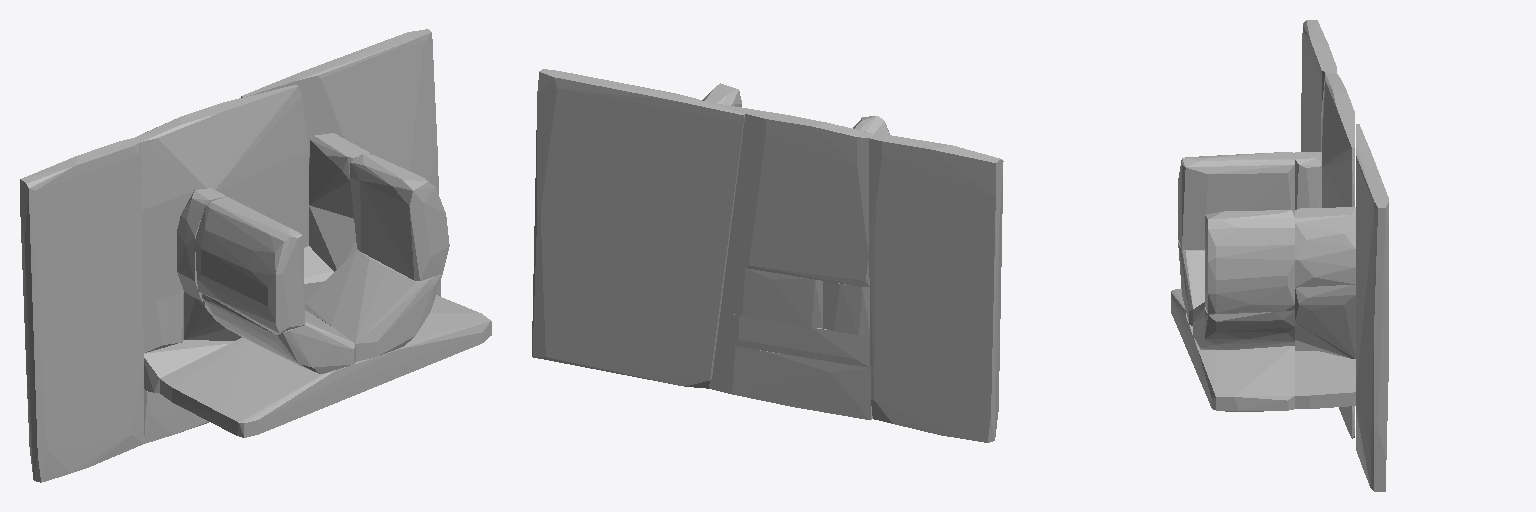
robot.urdf — root:
<robot name="root">
  <link name="link_thingiverse_packaged~part_4184550_packaged_convex_piece_0">
    <inertial>
      <origin rpy="0 0 0" xyz="0 0 0"/>
      <mass value="1.65E-02"/>
      <inertia ixx="5.85E-06" ixy="-2.15E-07" ixz="-2.79E-07" iyy="7.56E-06" iyz="2.52E-06" izz="7.59E-06"/>
    </inertial>
    <visual>
      <origin rpy="0 0 0" xyz="0 0 0"/>
      <geometry>
        <mesh filename="thingiverse_packaged~part_4184550_packaged_convex_piece_0.obj" scale="1.0000E+00 1.0000E+00 1.0000E+00"/>
      </geometry>
      <material name="">
        <color rgba="7.50E-01 7.50E-01 7.50E-01 1"/>
      </material>
    </visual>
    <collision>
      <origin rpy="0 0 0" xyz="0 0 0"/>
      <geometry>
        <mesh filename="thingiverse_packaged~part_4184550_packaged_convex_piece_0.obj" scale="1.0000E+00 1.0000E+00 1.0000E+00"/>
      </geometry>
    </collision>
  </link>
  <link name="link_thingiverse_packaged~part_4184550_packaged_convex_piece_1">
    <inertial>
      <origin rpy="0 0 0" xyz="0 0 0"/>
      <mass value="1.88E-02"/>
      <inertia ixx="1.13E-05" ixy="7.99E-06" ixz="1.82E-06" iyy="2.28E-05" iyz="1.37E-06" izz="2.03E-05"/>
    </inertial>
    <visual>
      <origin rpy="0 0 0" xyz="0 0 0"/>
      <geometry>
        <mesh filename="thingiverse_packaged~part_4184550_packaged_convex_piece_1.obj" scale="1.0000E+00 1.0000E+00 1.0000E+00"/>
      </geometry>
      <material name="">
        <color rgba="7.50E-01 7.50E-01 7.50E-01 1"/>
      </material>
    </visual>
    <collision>
      <origin rpy="0 0 0" xyz="0 0 0"/>
      <geometry>
        <mesh filename="thingiverse_packaged~part_4184550_packaged_convex_piece_1.obj" scale="1.0000E+00 1.0000E+00 1.0000E+00"/>
      </geometry>
    </collision>
  </link>
  <joint name="link_thingiverse_packaged~part_4184550_packaged_convex_piece_1_joint" type="fixed">
    <origin rpy="0 0 0" xyz="0 0 0"/>
    <parent link="link_thingiverse_packaged~part_4184550_packaged_convex_piece_0"/>
    <child link="link_thingiverse_packaged~part_4184550_packaged_convex_piece_1"/>
  </joint>
  <link name="link_thingiverse_packaged~part_4184550_packaged_convex_piece_2">
    <inertial>
      <origin rpy="0 0 0" xyz="0 0 0"/>
      <mass value="1.29E-02"/>
      <inertia ixx="4.92E-06" ixy="-2.29E-06" ixz="-1.36E-06" iyy="2.91E-05" iyz="2.20E-07" izz="2.47E-05"/>
    </inertial>
    <visual>
      <origin rpy="0 0 0" xyz="0 0 0"/>
      <geometry>
        <mesh filename="thingiverse_packaged~part_4184550_packaged_convex_piece_2.obj" scale="1.0000E+00 1.0000E+00 1.0000E+00"/>
      </geometry>
      <material name="">
        <color rgba="7.50E-01 7.50E-01 7.50E-01 1"/>
      </material>
    </visual>
    <collision>
      <origin rpy="0 0 0" xyz="0 0 0"/>
      <geometry>
        <mesh filename="thingiverse_packaged~part_4184550_packaged_convex_piece_2.obj" scale="1.0000E+00 1.0000E+00 1.0000E+00"/>
      </geometry>
    </collision>
  </link>
  <joint name="link_thingiverse_packaged~part_4184550_packaged_convex_piece_2_joint" type="fixed">
    <origin rpy="0 0 0" xyz="0 0 0"/>
    <parent link="link_thingiverse_packaged~part_4184550_packaged_convex_piece_1"/>
    <child link="link_thingiverse_packaged~part_4184550_packaged_convex_piece_2"/>
  </joint>
  <link name="link_thingiverse_packaged~part_4184550_packaged_convex_piece_3">
    <inertial>
      <origin rpy="0 0 0" xyz="0 0 0"/>
      <mass value="7.48E-03"/>
      <inertia ixx="1.59E-06" ixy="5.96E-07" ixz="1.08E-07" iyy="7.42E-07" iyz="3.14E-07" izz="1.98E-06"/>
    </inertial>
    <visual>
      <origin rpy="0 0 0" xyz="0 0 0"/>
      <geometry>
        <mesh filename="thingiverse_packaged~part_4184550_packaged_convex_piece_3.obj" scale="1.0000E+00 1.0000E+00 1.0000E+00"/>
      </geometry>
      <material name="">
        <color rgba="7.50E-01 7.50E-01 7.50E-01 1"/>
      </material>
    </visual>
    <collision>
      <origin rpy="0 0 0" xyz="0 0 0"/>
      <geometry>
        <mesh filename="thingiverse_packaged~part_4184550_packaged_convex_piece_3.obj" scale="1.0000E+00 1.0000E+00 1.0000E+00"/>
      </geometry>
    </collision>
  </link>
  <joint name="link_thingiverse_packaged~part_4184550_packaged_convex_piece_3_joint" type="fixed">
    <origin rpy="0 0 0" xyz="0 0 0"/>
    <parent link="link_thingiverse_packaged~part_4184550_packaged_convex_piece_2"/>
    <child link="link_thingiverse_packaged~part_4184550_packaged_convex_piece_3"/>
  </joint>
  <link name="link_thingiverse_packaged~part_4184550_packaged_convex_piece_4">
    <inertial>
      <origin rpy="0 0 0" xyz="0 0 0"/>
      <mass value="7.61E-03"/>
      <inertia ixx="2.93E-06" ixy="1.31E-06" ixz="-1.30E-06" iyy="2.93E-06" iyz="-1.17E-06" izz="3.16E-06"/>
    </inertial>
    <visual>
      <origin rpy="0 0 0" xyz="0 0 0"/>
      <geometry>
        <mesh filename="thingiverse_packaged~part_4184550_packaged_convex_piece_4.obj" scale="1.0000E+00 1.0000E+00 1.0000E+00"/>
      </geometry>
      <material name="">
        <color rgba="7.50E-01 7.50E-01 7.50E-01 1"/>
      </material>
    </visual>
    <collision>
      <origin rpy="0 0 0" xyz="0 0 0"/>
      <geometry>
        <mesh filename="thingiverse_packaged~part_4184550_packaged_convex_piece_4.obj" scale="1.0000E+00 1.0000E+00 1.0000E+00"/>
      </geometry>
    </collision>
  </link>
  <joint name="link_thingiverse_packaged~part_4184550_packaged_convex_piece_4_joint" type="fixed">
    <origin rpy="0 0 0" xyz="0 0 0"/>
    <parent link="link_thingiverse_packaged~part_4184550_packaged_convex_piece_3"/>
    <child link="link_thingiverse_packaged~part_4184550_packaged_convex_piece_4"/>
  </joint>
  <link name="link_thingiverse_packaged~part_4184550_packaged_convex_piece_5">
    <inertial>
      <origin rpy="0 0 0" xyz="0 0 0"/>
      <mass value="6.70E-03"/>
      <inertia ixx="1.20E-06" ixy="-1.04E-06" ixz="-2.50E-07" iyy="1.68E-06" iyz="2.62E-07" izz="2.56E-06"/>
    </inertial>
    <visual>
      <origin rpy="0 0 0" xyz="0 0 0"/>
      <geometry>
        <mesh filename="thingiverse_packaged~part_4184550_packaged_convex_piece_5.obj" scale="1.0000E+00 1.0000E+00 1.0000E+00"/>
      </geometry>
      <material name="">
        <color rgba="7.50E-01 7.50E-01 7.50E-01 1"/>
      </material>
    </visual>
    <collision>
      <origin rpy="0 0 0" xyz="0 0 0"/>
      <geometry>
        <mesh filename="thingiverse_packaged~part_4184550_packaged_convex_piece_5.obj" scale="1.0000E+00 1.0000E+00 1.0000E+00"/>
      </geometry>
    </collision>
  </link>
  <joint name="link_thingiverse_packaged~part_4184550_packaged_convex_piece_5_joint" type="fixed">
    <origin rpy="0 0 0" xyz="0 0 0"/>
    <parent link="link_thingiverse_packaged~part_4184550_packaged_convex_piece_4"/>
    <child link="link_thingiverse_packaged~part_4184550_packaged_convex_piece_5"/>
  </joint>
  <link name="link_thingiverse_packaged~part_4184550_packaged_convex_piece_6">
    <inertial>
      <origin rpy="0 0 0" xyz="0 0 0"/>
      <mass value="6.43E-03"/>
      <inertia ixx="2.23E-06" ixy="-1.37E-06" ixz="1.81E-06" iyy="4.26E-06" iyz="-8.78E-07" izz="3.69E-06"/>
    </inertial>
    <visual>
      <origin rpy="0 0 0" xyz="0 0 0"/>
      <geometry>
        <mesh filename="thingiverse_packaged~part_4184550_packaged_convex_piece_6.obj" scale="1.0000E+00 1.0000E+00 1.0000E+00"/>
      </geometry>
      <material name="">
        <color rgba="7.50E-01 7.50E-01 7.50E-01 1"/>
      </material>
    </visual>
    <collision>
      <origin rpy="0 0 0" xyz="0 0 0"/>
      <geometry>
        <mesh filename="thingiverse_packaged~part_4184550_packaged_convex_piece_6.obj" scale="1.0000E+00 1.0000E+00 1.0000E+00"/>
      </geometry>
    </collision>
  </link>
  <joint name="link_thingiverse_packaged~part_4184550_packaged_convex_piece_6_joint" type="fixed">
    <origin rpy="0 0 0" xyz="0 0 0"/>
    <parent link="link_thingiverse_packaged~part_4184550_packaged_convex_piece_5"/>
    <child link="link_thingiverse_packaged~part_4184550_packaged_convex_piece_6"/>
  </joint>
  <link name="link_thingiverse_packaged~part_4184550_packaged_convex_piece_7">
    <inertial>
      <origin rpy="0 0 0" xyz="0 0 0"/>
      <mass value="3.44E-03"/>
      <inertia ixx="2.33E-06" ixy="-1.91E-07" ixz="7.04E-07" iyy="2.80E-06" iyz="-7.49E-07" izz="1.06E-06"/>
    </inertial>
    <visual>
      <origin rpy="0 0 0" xyz="0 0 0"/>
      <geometry>
        <mesh filename="thingiverse_packaged~part_4184550_packaged_convex_piece_7.obj" scale="1.0000E+00 1.0000E+00 1.0000E+00"/>
      </geometry>
      <material name="">
        <color rgba="7.50E-01 7.50E-01 7.50E-01 1"/>
      </material>
    </visual>
    <collision>
      <origin rpy="0 0 0" xyz="0 0 0"/>
      <geometry>
        <mesh filename="thingiverse_packaged~part_4184550_packaged_convex_piece_7.obj" scale="1.0000E+00 1.0000E+00 1.0000E+00"/>
      </geometry>
    </collision>
  </link>
  <joint name="link_thingiverse_packaged~part_4184550_packaged_convex_piece_7_joint" type="fixed">
    <origin rpy="0 0 0" xyz="0 0 0"/>
    <parent link="link_thingiverse_packaged~part_4184550_packaged_convex_piece_6"/>
    <child link="link_thingiverse_packaged~part_4184550_packaged_convex_piece_7"/>
  </joint>
  <link name="link_thingiverse_packaged~part_4184550_packaged_convex_piece_8">
    <inertial>
      <origin rpy="0 0 0" xyz="0 0 0"/>
      <mass value="9.16E-03"/>
      <inertia ixx="2.28E-06" ixy="2.20E-07" ixz="-2.61E-07" iyy="4.56E-06" iyz="-7.59E-07" izz="3.12E-06"/>
    </inertial>
    <visual>
      <origin rpy="0 0 0" xyz="0 0 0"/>
      <geometry>
        <mesh filename="thingiverse_packaged~part_4184550_packaged_convex_piece_8.obj" scale="1.0000E+00 1.0000E+00 1.0000E+00"/>
      </geometry>
      <material name="">
        <color rgba="7.50E-01 7.50E-01 7.50E-01 1"/>
      </material>
    </visual>
    <collision>
      <origin rpy="0 0 0" xyz="0 0 0"/>
      <geometry>
        <mesh filename="thingiverse_packaged~part_4184550_packaged_convex_piece_8.obj" scale="1.0000E+00 1.0000E+00 1.0000E+00"/>
      </geometry>
    </collision>
  </link>
  <joint name="link_thingiverse_packaged~part_4184550_packaged_convex_piece_8_joint" type="fixed">
    <origin rpy="0 0 0" xyz="0 0 0"/>
    <parent link="link_thingiverse_packaged~part_4184550_packaged_convex_piece_7"/>
    <child link="link_thingiverse_packaged~part_4184550_packaged_convex_piece_8"/>
  </joint>
  <link name="link_thingiverse_packaged~part_4184550_packaged_convex_piece_9">
    <inertial>
      <origin rpy="0 0 0" xyz="0 0 0"/>
      <mass value="3.76E-03"/>
      <inertia ixx="2.96E-07" ixy="3.95E-07" ixz="6.97E-08" iyy="1.25E-06" iyz="1.49E-08" izz="1.34E-06"/>
    </inertial>
    <visual>
      <origin rpy="0 0 0" xyz="0 0 0"/>
      <geometry>
        <mesh filename="thingiverse_packaged~part_4184550_packaged_convex_piece_9.obj" scale="1.0000E+00 1.0000E+00 1.0000E+00"/>
      </geometry>
      <material name="">
        <color rgba="7.50E-01 7.50E-01 7.50E-01 1"/>
      </material>
    </visual>
    <collision>
      <origin rpy="0 0 0" xyz="0 0 0"/>
      <geometry>
        <mesh filename="thingiverse_packaged~part_4184550_packaged_convex_piece_9.obj" scale="1.0000E+00 1.0000E+00 1.0000E+00"/>
      </geometry>
    </collision>
  </link>
  <joint name="link_thingiverse_packaged~part_4184550_packaged_convex_piece_9_joint" type="fixed">
    <origin rpy="0 0 0" xyz="0 0 0"/>
    <parent link="link_thingiverse_packaged~part_4184550_packaged_convex_piece_8"/>
    <child link="link_thingiverse_packaged~part_4184550_packaged_convex_piece_9"/>
  </joint>
  <link name="link_thingiverse_packaged~part_4184550_packaged_convex_piece_10">
    <inertial>
      <origin rpy="0 0 0" xyz="0 0 0"/>
      <mass value="3.02E-03"/>
      <inertia ixx="9.78E-07" ixy="3.33E-07" ixz="8.74E-07" iyy="1.85E-06" iyz="2.97E-07" izz="1.18E-06"/>
    </inertial>
    <visual>
      <origin rpy="0 0 0" xyz="0 0 0"/>
      <geometry>
        <mesh filename="thingiverse_packaged~part_4184550_packaged_convex_piece_10.obj" scale="1.0000E+00 1.0000E+00 1.0000E+00"/>
      </geometry>
      <material name="">
        <color rgba="7.50E-01 7.50E-01 7.50E-01 1"/>
      </material>
    </visual>
    <collision>
      <origin rpy="0 0 0" xyz="0 0 0"/>
      <geometry>
        <mesh filename="thingiverse_packaged~part_4184550_packaged_convex_piece_10.obj" scale="1.0000E+00 1.0000E+00 1.0000E+00"/>
      </geometry>
    </collision>
  </link>
  <joint name="link_thingiverse_packaged~part_4184550_packaged_convex_piece_10_joint" type="fixed">
    <origin rpy="0 0 0" xyz="0 0 0"/>
    <parent link="link_thingiverse_packaged~part_4184550_packaged_convex_piece_9"/>
    <child link="link_thingiverse_packaged~part_4184550_packaged_convex_piece_10"/>
  </joint>
  <link name="link_thingiverse_packaged~part_4184550_packaged_convex_piece_11">
    <inertial>
      <origin rpy="0 0 0" xyz="0 0 0"/>
      <mass value="7.64E-04"/>
      <inertia ixx="6.97E-08" ixy="-1.30E-07" ixz="9.62E-08" iyy="4.70E-07" iyz="-2.89E-08" izz="4.81E-07"/>
    </inertial>
    <visual>
      <origin rpy="0 0 0" xyz="0 0 0"/>
      <geometry>
        <mesh filename="thingiverse_packaged~part_4184550_packaged_convex_piece_11.obj" scale="1.0000E+00 1.0000E+00 1.0000E+00"/>
      </geometry>
      <material name="">
        <color rgba="7.50E-01 7.50E-01 7.50E-01 1"/>
      </material>
    </visual>
    <collision>
      <origin rpy="0 0 0" xyz="0 0 0"/>
      <geometry>
        <mesh filename="thingiverse_packaged~part_4184550_packaged_convex_piece_11.obj" scale="1.0000E+00 1.0000E+00 1.0000E+00"/>
      </geometry>
    </collision>
  </link>
  <joint name="link_thingiverse_packaged~part_4184550_packaged_convex_piece_11_joint" type="fixed">
    <origin rpy="0 0 0" xyz="0 0 0"/>
    <parent link="link_thingiverse_packaged~part_4184550_packaged_convex_piece_10"/>
    <child link="link_thingiverse_packaged~part_4184550_packaged_convex_piece_11"/>
  </joint>
  <link name="link_thingiverse_packaged~part_4184550_packaged_convex_piece_12">
    <inertial>
      <origin rpy="0 0 0" xyz="0 0 0"/>
      <mass value="8.13E-03"/>
      <inertia ixx="6.91E-07" ixy="-8.21E-08" ixz="7.27E-08" iyy="9.57E-07" iyz="-2.53E-07" izz="1.03E-06"/>
    </inertial>
    <visual>
      <origin rpy="0 0 0" xyz="0 0 0"/>
      <geometry>
        <mesh filename="thingiverse_packaged~part_4184550_packaged_convex_piece_12.obj" scale="1.0000E+00 1.0000E+00 1.0000E+00"/>
      </geometry>
      <material name="">
        <color rgba="7.50E-01 7.50E-01 7.50E-01 1"/>
      </material>
    </visual>
    <collision>
      <origin rpy="0 0 0" xyz="0 0 0"/>
      <geometry>
        <mesh filename="thingiverse_packaged~part_4184550_packaged_convex_piece_12.obj" scale="1.0000E+00 1.0000E+00 1.0000E+00"/>
      </geometry>
    </collision>
  </link>
  <joint name="link_thingiverse_packaged~part_4184550_packaged_convex_piece_12_joint" type="fixed">
    <origin rpy="0 0 0" xyz="0 0 0"/>
    <parent link="link_thingiverse_packaged~part_4184550_packaged_convex_piece_11"/>
    <child link="link_thingiverse_packaged~part_4184550_packaged_convex_piece_12"/>
  </joint>
  <link name="link_thingiverse_packaged~part_4184550_packaged_convex_piece_13">
    <inertial>
      <origin rpy="0 0 0" xyz="0 0 0"/>
      <mass value="1.98E-03"/>
      <inertia ixx="3.12E-07" ixy="-7.71E-08" ixz="-3.41E-07" iyy="8.22E-07" iyz="5.04E-08" izz="5.44E-07"/>
    </inertial>
    <visual>
      <origin rpy="0 0 0" xyz="0 0 0"/>
      <geometry>
        <mesh filename="thingiverse_packaged~part_4184550_packaged_convex_piece_13.obj" scale="1.0000E+00 1.0000E+00 1.0000E+00"/>
      </geometry>
      <material name="">
        <color rgba="7.50E-01 7.50E-01 7.50E-01 1"/>
      </material>
    </visual>
    <collision>
      <origin rpy="0 0 0" xyz="0 0 0"/>
      <geometry>
        <mesh filename="thingiverse_packaged~part_4184550_packaged_convex_piece_13.obj" scale="1.0000E+00 1.0000E+00 1.0000E+00"/>
      </geometry>
    </collision>
  </link>
  <joint name="link_thingiverse_packaged~part_4184550_packaged_convex_piece_13_joint" type="fixed">
    <origin rpy="0 0 0" xyz="0 0 0"/>
    <parent link="link_thingiverse_packaged~part_4184550_packaged_convex_piece_12"/>
    <child link="link_thingiverse_packaged~part_4184550_packaged_convex_piece_13"/>
  </joint>
  <link name="link_thingiverse_packaged~part_4184550_packaged_convex_piece_14">
    <inertial>
      <origin rpy="0 0 0" xyz="0 0 0"/>
      <mass value="1.15E-02"/>
      <inertia ixx="5.54E-06" ixy="-9.42E-07" ixz="-2.14E-06" iyy="7.07E-06" iyz="1.82E-06" izz="3.48E-06"/>
    </inertial>
    <visual>
      <origin rpy="0 0 0" xyz="0 0 0"/>
      <geometry>
        <mesh filename="thingiverse_packaged~part_4184550_packaged_convex_piece_14.obj" scale="1.0000E+00 1.0000E+00 1.0000E+00"/>
      </geometry>
      <material name="">
        <color rgba="7.50E-01 7.50E-01 7.50E-01 1"/>
      </material>
    </visual>
    <collision>
      <origin rpy="0 0 0" xyz="0 0 0"/>
      <geometry>
        <mesh filename="thingiverse_packaged~part_4184550_packaged_convex_piece_14.obj" scale="1.0000E+00 1.0000E+00 1.0000E+00"/>
      </geometry>
    </collision>
  </link>
  <joint name="link_thingiverse_packaged~part_4184550_packaged_convex_piece_14_joint" type="fixed">
    <origin rpy="0 0 0" xyz="0 0 0"/>
    <parent link="link_thingiverse_packaged~part_4184550_packaged_convex_piece_13"/>
    <child link="link_thingiverse_packaged~part_4184550_packaged_convex_piece_14"/>
  </joint>
</robot>

--- Render facts (derived) ---
Views: 3 orthographic renders of the robot side by side, from view 1: azimuth 30°, elevation 25°; view 2: azimuth 150°, elevation 25°; view 3: azimuth 270°, elevation 25°.
Robot: root — 15 links, 14 joints (14 fixed); root link link_thingiverse_packaged~part_4184550_packaged_convex_piece_0; default pose: all joints at 0.
Visible links, largest first — view 1: link_thingiverse_packaged~part_4184550_packaged_convex_piece_2, link_thingiverse_packaged~part_4184550_packaged_convex_piece_14, link_thingiverse_packaged~part_4184550_packaged_convex_piece_0, link_thingiverse_packaged~part_4184550_packaged_convex_piece_1, link_thingiverse_packaged~part_4184550_packaged_convex_piece_4, link_thingiverse_packaged~part_4184550_packaged_convex_piece_6, link_thingiverse_packaged~part_4184550_packaged_convex_piece_5, link_thingiverse_packaged~part_4184550_packaged_convex_piece_3, link_thingiverse_packaged~part_4184550_packaged_convex_piece_10, link_thingiverse_packaged~part_4184550_packaged_convex_piece_12, link_thingiverse_packaged~part_4184550_packaged_convex_piece_9, link_thingiverse_packaged~part_4184550_packaged_convex_piece_13 (+3 smaller); view 2: link_thingiverse_packaged~part_4184550_packaged_convex_piece_1, link_thingiverse_packaged~part_4184550_packaged_convex_piece_2, link_thingiverse_packaged~part_4184550_packaged_convex_piece_14, link_thingiverse_packaged~part_4184550_packaged_convex_piece_7, link_thingiverse_packaged~part_4184550_packaged_convex_piece_12, link_thingiverse_packaged~part_4184550_packaged_convex_piece_8, link_thingiverse_packaged~part_4184550_packaged_convex_piece_11, link_thingiverse_packaged~part_4184550_packaged_convex_piece_6; view 3: link_thingiverse_packaged~part_4184550_packaged_convex_piece_1, link_thingiverse_packaged~part_4184550_packaged_convex_piece_6, link_thingiverse_packaged~part_4184550_packaged_convex_piece_4, link_thingiverse_packaged~part_4184550_packaged_convex_piece_0, link_thingiverse_packaged~part_4184550_packaged_convex_piece_10, link_thingiverse_packaged~part_4184550_packaged_convex_piece_9, link_thingiverse_packaged~part_4184550_packaged_convex_piece_14, link_thingiverse_packaged~part_4184550_packaged_convex_piece_5, link_thingiverse_packaged~part_4184550_packaged_convex_piece_8, link_thingiverse_packaged~part_4184550_packaged_convex_piece_2, link_thingiverse_packaged~part_4184550_packaged_convex_piece_13, link_thingiverse_packaged~part_4184550_packaged_convex_piece_3.
Link boxes in pixels (x1,y1,x2,y2): link_thingiverse_packaged~part_4184550_packaged_convex_piece_2: (20, 138, 143, 482); link_thingiverse_packaged~part_4184550_packaged_convex_piece_14: (135, 85, 308, 301); link_thingiverse_packaged~part_4184550_packaged_convex_piece_0: (160, 296, 491, 437); link_thingiverse_packaged~part_4184550_packaged_convex_piece_1: (241, 29, 440, 296); link_thingiverse_packaged~part_4184550_packaged_convex_piece_4: (195, 196, 304, 332); link_thingiverse_packaged~part_4184550_packaged_convex_piece_6: (350, 153, 449, 280); link_thingiverse_packaged~part_4184550_packaged_convex_piece_5: (305, 249, 442, 361); link_thingiverse_packaged~part_4184550_packaged_convex_piece_3: (202, 294, 355, 373); link_thingiverse_packaged~part_4184550_packaged_convex_piece_10: (309, 133, 369, 218); link_thingiverse_packaged~part_4184550_packaged_convex_piece_12: (184, 246, 333, 340); link_thingiverse_packaged~part_4184550_packaged_convex_piece_9: (309, 205, 356, 271); link_thingiverse_packaged~part_4184550_packaged_convex_piece_13: (177, 188, 225, 301); link_thingiverse_packaged~part_4184550_packaged_convex_piece_1: (532, 69, 744, 388); link_thingiverse_packaged~part_4184550_packaged_convex_piece_2: (869, 134, 1003, 442); link_thingiverse_packaged~part_4184550_packaged_convex_piece_14: (709, 102, 873, 286); link_thingiverse_packaged~part_4184550_packaged_convex_piece_7: (709, 342, 872, 419); link_thingiverse_packaged~part_4184550_packaged_convex_piece_12: (721, 264, 822, 328); link_thingiverse_packaged~part_4184550_packaged_convex_piece_8: (717, 311, 870, 367); link_thingiverse_packaged~part_4184550_packaged_convex_piece_11: (823, 281, 869, 335); link_thingiverse_packaged~part_4184550_packaged_convex_piece_6: (702, 83, 741, 106); link_thingiverse_packaged~part_4184550_packaged_convex_piece_1: (1356, 124, 1388, 491); link_thingiverse_packaged~part_4184550_packaged_convex_piece_6: (1205, 210, 1294, 314); link_thingiverse_packaged~part_4184550_packaged_convex_piece_4: (1178, 152, 1294, 249); link_thingiverse_packaged~part_4184550_packaged_convex_piece_0: (1171, 289, 1294, 411); link_thingiverse_packaged~part_4184550_packaged_convex_piece_10: (1295, 207, 1355, 287); link_thingiverse_packaged~part_4184550_packaged_convex_piece_9: (1295, 284, 1355, 358); link_thingiverse_packaged~part_4184550_packaged_convex_piece_14: (1322, 73, 1354, 207); link_thingiverse_packaged~part_4184550_packaged_convex_piece_5: (1193, 302, 1294, 349); link_thingiverse_packaged~part_4184550_packaged_convex_piece_8: (1295, 351, 1355, 408); link_thingiverse_packaged~part_4184550_packaged_convex_piece_2: (1301, 20, 1336, 151); link_thingiverse_packaged~part_4184550_packaged_convex_piece_13: (1295, 152, 1321, 209); link_thingiverse_packaged~part_4184550_packaged_convex_piece_3: (1178, 240, 1204, 325).
Bounding box of the posed robot: 0.1029 × 0.0466 × 0.0683 m (x, y, z).
15 mesh visuals loaded from 15 distinct referenced files (15 OBJ).
